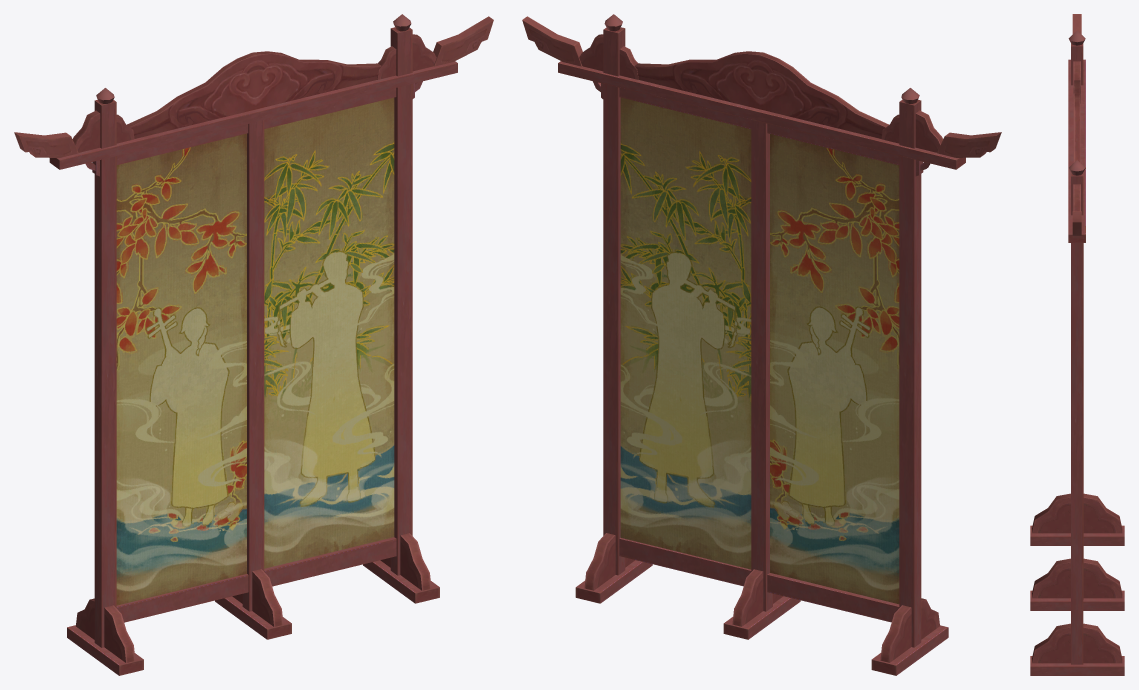
The model's file is Homeworld_Exterior_Ly_Decoration_Prop_DoubleScreen_03_Vo.fbx.
3 renders of one model, left to right at view 1: azimuth 30°, elevation 25°; view 2: azimuth 150°, elevation 25°; view 3: azimuth 270°, elevation 25°, orthographic. The views are drawn at different scales.
Parts seen in each view (by area): view 1: Area_Ly_Prop_LYG_Hdj_Screen_08_Vo; view 2: Area_Ly_Prop_LYG_Hdj_Screen_08_Vo; view 3: Area_Ly_Prop_LYG_Hdj_Screen_08_Vo.
Boxes of the visible parts, bbox=[...] form: Area_Ly_Prop_LYG_Hdj_Screen_08_Vo: bbox=[14, 14, 493, 675]; Area_Ly_Prop_LYG_Hdj_Screen_08_Vo: bbox=[522, 14, 1001, 675]; Area_Ly_Prop_LYG_Hdj_Screen_08_Vo: bbox=[1030, 14, 1124, 675].
Size of the model in its own units: 4.66 by 5.33 by 0.8913.
